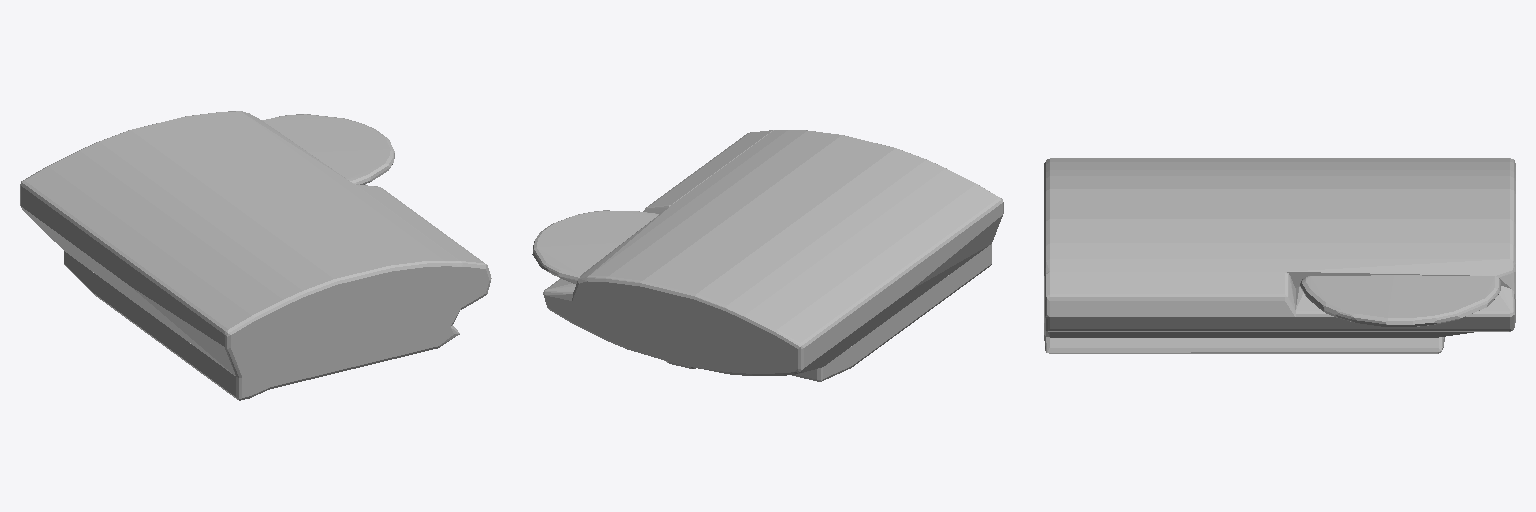
robot.urdf — root:
<robot name="root">
  <link name="link_coacd_convex_piece_0">
    <inertial>
      <origin xyz="0 0 0" rpy="0 0 0"/>
      <inertia ixx="2.27E-03" ixy="2.42E-04" ixz="1.74E-03" iyy="3.87E-03" iyz="-2.16E-04" izz="1.71E-03"/>
    </inertial>
    <visual>
      <origin xyz="0 0 0" rpy="0 0 0"/>
      <geometry>
        <mesh filename="coacd_convex_piece_0.obj" scale="1.0000E+00 1.0000E+00 1.0000E+00"/>
      </geometry>
      <material name="">
        <color rgba="7.50E-01 7.50E-01 7.50E-01 1"/>
      </material>
    </visual>
    <collision>
      <origin xyz="0 0 0" rpy="0 0 0"/>
      <geometry>
        <mesh filename="coacd_convex_piece_0.obj" scale="1.0000E+00 1.0000E+00 1.0000E+00"/>
      </geometry>
    </collision>
  </link>
  <link name="link_coacd_convex_piece_1">
    <inertial>
      <origin xyz="0 0 0" rpy="0 0 0"/>
      <inertia ixx="6.15E-02" ixy="-1.09E-03" ixz="1.21E-03" iyy="8.35E-02" iyz="1.02E-04" izz="2.69E-02"/>
    </inertial>
    <visual>
      <origin xyz="0 0 0" rpy="0 0 0"/>
      <geometry>
        <mesh filename="coacd_convex_piece_1.obj" scale="1.0000E+00 1.0000E+00 1.0000E+00"/>
      </geometry>
      <material name="">
        <color rgba="7.50E-01 7.50E-01 7.50E-01 1"/>
      </material>
    </visual>
    <collision>
      <origin xyz="0 0 0" rpy="0 0 0"/>
      <geometry>
        <mesh filename="coacd_convex_piece_1.obj" scale="1.0000E+00 1.0000E+00 1.0000E+00"/>
      </geometry>
    </collision>
  </link>
  <joint name="link_coacd_convex_piece_1_joint" type="fixed">
    <origin xyz="0 0 0" rpy="0 0 0"/>
    <parent link="link_coacd_convex_piece_0"/>
    <child link="link_coacd_convex_piece_1"/>
  </joint>
  <link name="link_coacd_convex_piece_2">
    <inertial>
      <origin xyz="0 0 0" rpy="0 0 0"/>
      <inertia ixx="1.60E-03" ixy="8.78E-05" ixz="-1.17E-03" iyy="2.62E-03" iyz="8.75E-05" izz="1.05E-03"/>
    </inertial>
    <visual>
      <origin xyz="0 0 0" rpy="0 0 0"/>
      <geometry>
        <mesh filename="coacd_convex_piece_2.obj" scale="1.0000E+00 1.0000E+00 1.0000E+00"/>
      </geometry>
      <material name="">
        <color rgba="7.50E-01 7.50E-01 7.50E-01 1"/>
      </material>
    </visual>
    <collision>
      <origin xyz="0 0 0" rpy="0 0 0"/>
      <geometry>
        <mesh filename="coacd_convex_piece_2.obj" scale="1.0000E+00 1.0000E+00 1.0000E+00"/>
      </geometry>
    </collision>
  </link>
  <joint name="link_coacd_convex_piece_2_joint" type="fixed">
    <origin xyz="0 0 0" rpy="0 0 0"/>
    <parent link="link_coacd_convex_piece_1"/>
    <child link="link_coacd_convex_piece_2"/>
  </joint>
  <link name="link_coacd_convex_piece_3">
    <inertial>
      <origin xyz="0 0 0" rpy="0 0 0"/>
      <inertia ixx="8.53E-04" ixy="2.44E-04" ixz="-7.93E-04" iyy="1.72E-03" iyz="2.04E-04" izz="9.90E-04"/>
    </inertial>
    <visual>
      <origin xyz="0 0 0" rpy="0 0 0"/>
      <geometry>
        <mesh filename="coacd_convex_piece_3.obj" scale="1.0000E+00 1.0000E+00 1.0000E+00"/>
      </geometry>
      <material name="">
        <color rgba="7.50E-01 7.50E-01 7.50E-01 1"/>
      </material>
    </visual>
    <collision>
      <origin xyz="0 0 0" rpy="0 0 0"/>
      <geometry>
        <mesh filename="coacd_convex_piece_3.obj" scale="1.0000E+00 1.0000E+00 1.0000E+00"/>
      </geometry>
    </collision>
  </link>
  <joint name="link_coacd_convex_piece_3_joint" type="fixed">
    <origin xyz="0 0 0" rpy="0 0 0"/>
    <parent link="link_coacd_convex_piece_2"/>
    <child link="link_coacd_convex_piece_3"/>
  </joint>
  <link name="link_coacd_convex_piece_4">
    <inertial>
      <origin xyz="0 0 0" rpy="0 0 0"/>
      <inertia ixx="2.08E-03" ixy="9.79E-04" ixz="-8.31E-04" iyy="5.29E-03" iyz="2.45E-04" izz="3.74E-03"/>
    </inertial>
    <visual>
      <origin xyz="0 0 0" rpy="0 0 0"/>
      <geometry>
        <mesh filename="coacd_convex_piece_4.obj" scale="1.0000E+00 1.0000E+00 1.0000E+00"/>
      </geometry>
      <material name="">
        <color rgba="7.50E-01 7.50E-01 7.50E-01 1"/>
      </material>
    </visual>
    <collision>
      <origin xyz="0 0 0" rpy="0 0 0"/>
      <geometry>
        <mesh filename="coacd_convex_piece_4.obj" scale="1.0000E+00 1.0000E+00 1.0000E+00"/>
      </geometry>
    </collision>
  </link>
  <joint name="link_coacd_convex_piece_4_joint" type="fixed">
    <origin xyz="0 0 0" rpy="0 0 0"/>
    <parent link="link_coacd_convex_piece_3"/>
    <child link="link_coacd_convex_piece_4"/>
  </joint>
  <link name="link_coacd_convex_piece_5">
    <inertial>
      <origin xyz="0 0 0" rpy="0 0 0"/>
      <inertia ixx="1.06E-02" ixy="8.35E-04" ixz="-4.11E-04" iyy="1.20E-02" iyz="1.12E-03" izz="3.94E-03"/>
    </inertial>
    <visual>
      <origin xyz="0 0 0" rpy="0 0 0"/>
      <geometry>
        <mesh filename="coacd_convex_piece_5.obj" scale="1.0000E+00 1.0000E+00 1.0000E+00"/>
      </geometry>
      <material name="">
        <color rgba="7.50E-01 7.50E-01 7.50E-01 1"/>
      </material>
    </visual>
    <collision>
      <origin xyz="0 0 0" rpy="0 0 0"/>
      <geometry>
        <mesh filename="coacd_convex_piece_5.obj" scale="1.0000E+00 1.0000E+00 1.0000E+00"/>
      </geometry>
    </collision>
  </link>
  <joint name="link_coacd_convex_piece_5_joint" type="fixed">
    <origin xyz="0 0 0" rpy="0 0 0"/>
    <parent link="link_coacd_convex_piece_4"/>
    <child link="link_coacd_convex_piece_5"/>
  </joint>
  <link name="link_coacd_convex_piece_6">
    <inertial>
      <origin xyz="0 0 0" rpy="0 0 0"/>
      <inertia ixx="1.49E-04" ixy="5.01E-06" ixz="3.06E-05" iyy="1.46E-04" iyz="-2.35E-05" izz="5.19E-06"/>
    </inertial>
    <visual>
      <origin xyz="0 0 0" rpy="0 0 0"/>
      <geometry>
        <mesh filename="coacd_convex_piece_6.obj" scale="1.0000E+00 1.0000E+00 1.0000E+00"/>
      </geometry>
      <material name="">
        <color rgba="7.50E-01 7.50E-01 7.50E-01 1"/>
      </material>
    </visual>
    <collision>
      <origin xyz="0 0 0" rpy="0 0 0"/>
      <geometry>
        <mesh filename="coacd_convex_piece_6.obj" scale="1.0000E+00 1.0000E+00 1.0000E+00"/>
      </geometry>
    </collision>
  </link>
  <joint name="link_coacd_convex_piece_6_joint" type="fixed">
    <origin xyz="0 0 0" rpy="0 0 0"/>
    <parent link="link_coacd_convex_piece_5"/>
    <child link="link_coacd_convex_piece_6"/>
  </joint>
</robot>

--- What the picture shows (computed from the rendered views, not written in the file) ---
The picture shows the robot from 3 angles, left to right: view 1: azimuth 30°, elevation 25°; view 2: azimuth 150°, elevation 25°; view 3: azimuth 270°, elevation 25°; orthographic projection.
Robot: root — 7 links, 6 joints (6 fixed); root link link_coacd_convex_piece_0; default pose: all joints at 0.
Links seen in each view (by area): view 1: link_coacd_convex_piece_1, link_coacd_convex_piece_3, link_coacd_convex_piece_4, link_coacd_convex_piece_5, link_coacd_convex_piece_0; view 2: link_coacd_convex_piece_1, link_coacd_convex_piece_3, link_coacd_convex_piece_4, link_coacd_convex_piece_0, link_coacd_convex_piece_2; view 3: link_coacd_convex_piece_1, link_coacd_convex_piece_0, link_coacd_convex_piece_3, link_coacd_convex_piece_5, link_coacd_convex_piece_2.
Link boxes in pixels (x1=…): link_coacd_convex_piece_1: x1=20, y1=111, x2=460, y2=377; link_coacd_convex_piece_3: x1=262, y1=114, x2=394, y2=184; link_coacd_convex_piece_4: x1=64, y1=251, x2=270, y2=400; link_coacd_convex_piece_5: x1=270, y1=325, x2=459, y2=388; link_coacd_convex_piece_0: x1=356, y1=184, x2=491, y2=309; link_coacd_convex_piece_1: x1=572, y1=130, x2=1003, y2=375; link_coacd_convex_piece_3: x1=532, y1=210, x2=658, y2=283; link_coacd_convex_piece_4: x1=792, y1=244, x2=991, y2=381; link_coacd_convex_piece_0: x1=643, y1=130, x2=773, y2=214; link_coacd_convex_piece_2: x1=543, y1=278, x2=575, y2=323; link_coacd_convex_piece_1: x1=1044, y1=158, x2=1515, y2=337; link_coacd_convex_piece_0: x1=1045, y1=272, x2=1295, y2=331; link_coacd_convex_piece_3: x1=1300, y1=275, x2=1500, y2=326; link_coacd_convex_piece_5: x1=1044, y1=335, x2=1444, y2=353; link_coacd_convex_piece_2: x1=1296, y1=286, x2=1514, y2=331.
Size in the robot's own frame: 1.29 by 1.48 by 0.3871 metres.
Meshes: 7 distinct files referenced, 7 mesh visuals loaded (7 OBJ).
